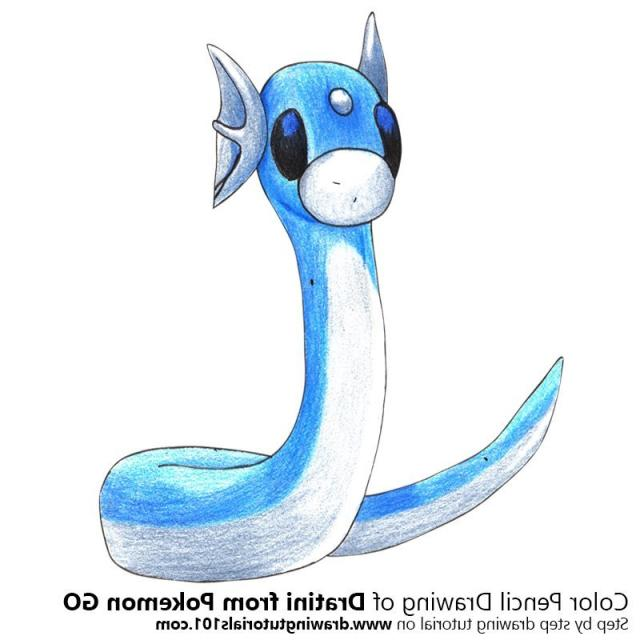Dratini: (94, 14, 413, 586)
